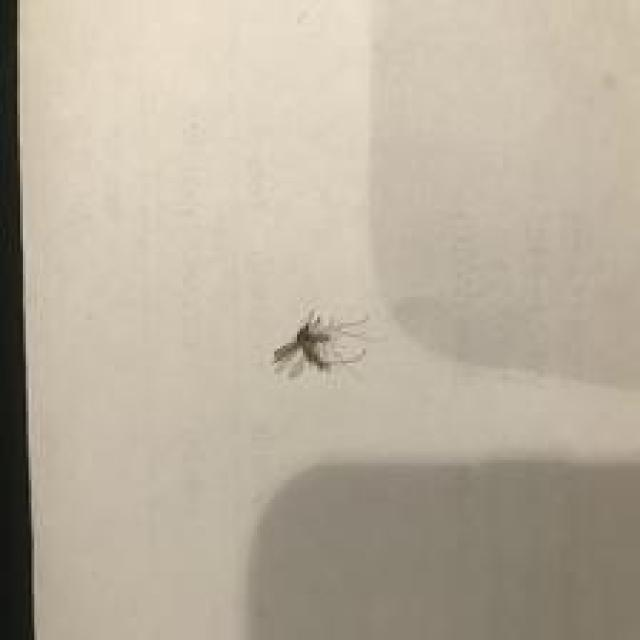Culex: (270, 309, 370, 380)
